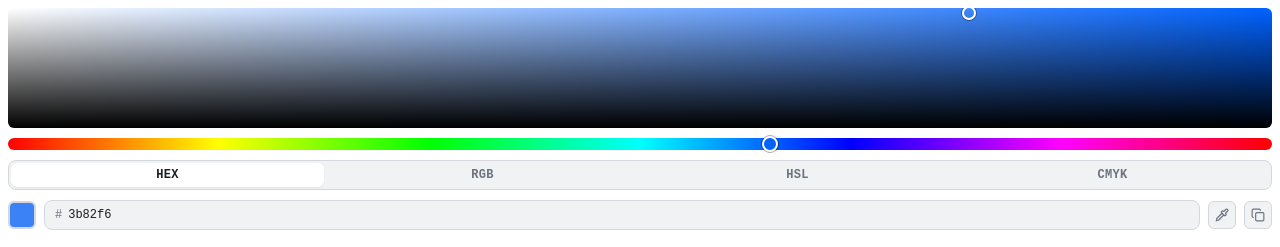
Test: ColorPicker — copy & eyedropper › copies the current hex to the clipboard and shows feedback
This screenshot has width=1280, height=247.
Click the button named "Copy hex" at (1258, 215), box left=1244, top=201, right=1272, bottom=229
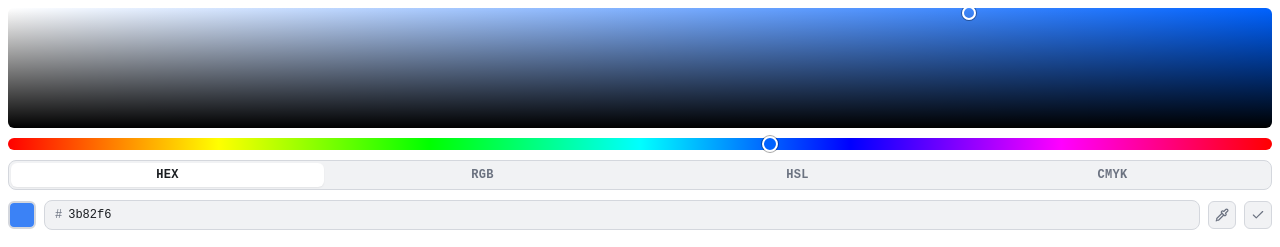
Now the button named "Copied" is shown, box left=1244, top=201, right=1272, bottom=229
